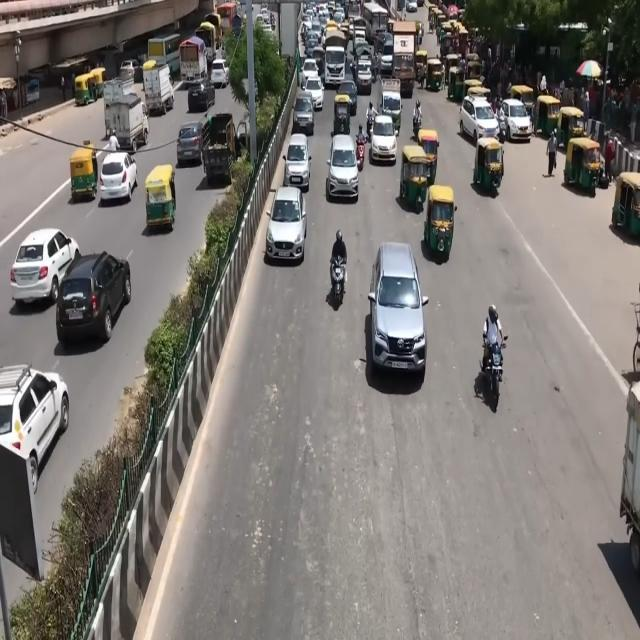auto: (424, 184, 456, 260), (564, 136, 602, 196), (144, 165, 177, 231), (472, 134, 504, 198), (400, 144, 430, 210), (611, 171, 640, 239), (70, 146, 99, 202), (556, 104, 586, 151), (417, 128, 440, 184), (536, 94, 562, 141), (333, 92, 353, 136), (74, 72, 96, 106), (426, 56, 444, 92), (88, 67, 107, 99), (466, 53, 482, 82)
bike-auto: (481, 303, 508, 413), (330, 240, 347, 304), (330, 253, 348, 304), (355, 133, 366, 171), (366, 102, 377, 139), (412, 108, 423, 140)
